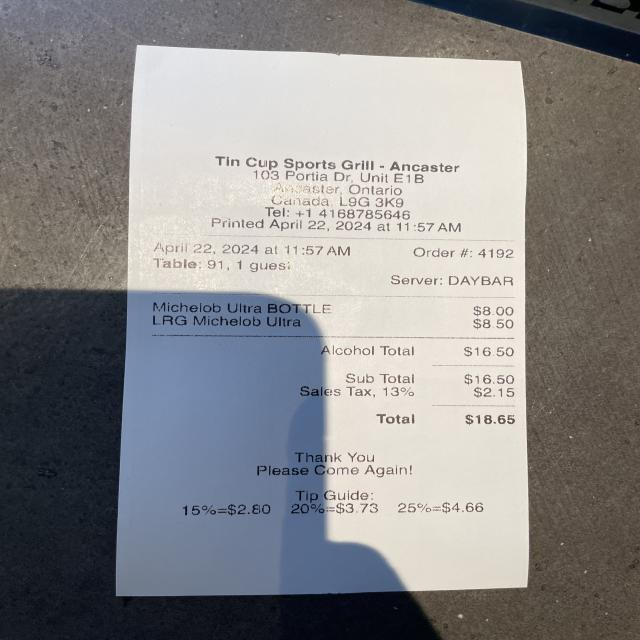item: (145, 295, 522, 320), (145, 312, 522, 336)
store_name: (206, 151, 469, 177)
total_amount: (368, 406, 521, 434)
transaction_date: (147, 237, 263, 260)
